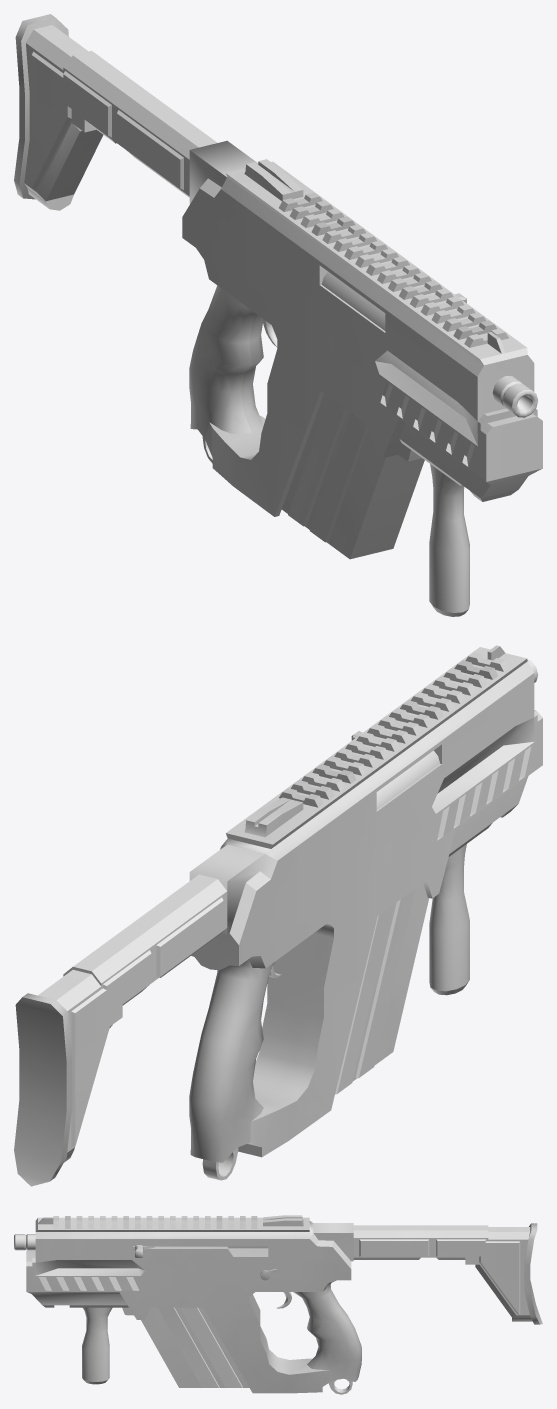
File: gun.obj
The picture shows the model from 3 angles, top to bottom: view 1: azimuth 30°, elevation 25°; view 2: azimuth 150°, elevation 25°; view 3: azimuth 270°, elevation 25°; orthographic projection. The views are drawn at different scales.
Parts seen in each view (by area): view 1: SMG_Plane; view 2: SMG_Plane; view 3: SMG_Plane.
Part boxes in pixels (x1,y1,x2,y2): SMG_Plane: (14, 14, 542, 616); SMG_Plane: (14, 645, 542, 1186); SMG_Plane: (14, 1215, 542, 1394).
Size of the model in its own units: 0.8116 by 3.06 by 8.37.
